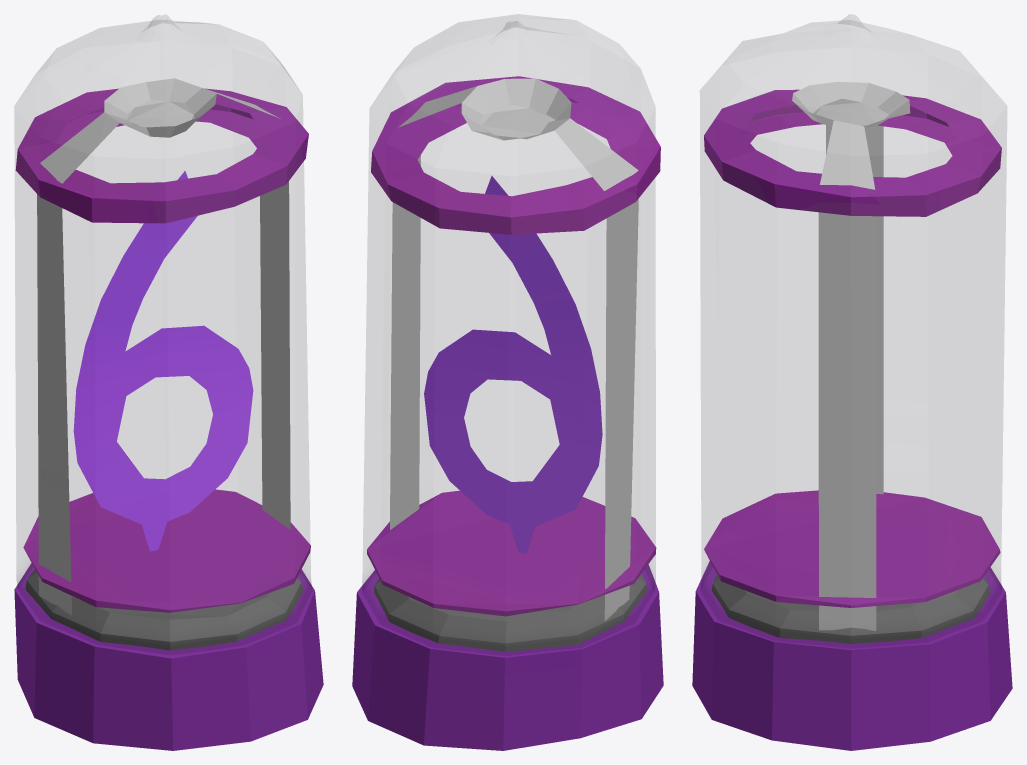
File: obj_num06_alt.gltf
3 renders of one model, left to right at view 1: azimuth 30°, elevation 25°; view 2: azimuth 150°, elevation 25°; view 3: azimuth 270°, elevation 25°, orthographic.
Parts seen in each view (by area): view 1: obj_num06_alt; view 2: obj_num06_alt; view 3: obj_num06_alt.
Part boxes in pixels (box(x1,y1,x2,y2)): obj_num06_alt: box(14, 14, 323, 750); obj_num06_alt: box(352, 14, 663, 750); obj_num06_alt: box(692, 14, 1012, 750).
Size of what is drawn, in the model's own units: 0.402 by 0.9605 by 0.4175.
2 materials, 2 textured.
